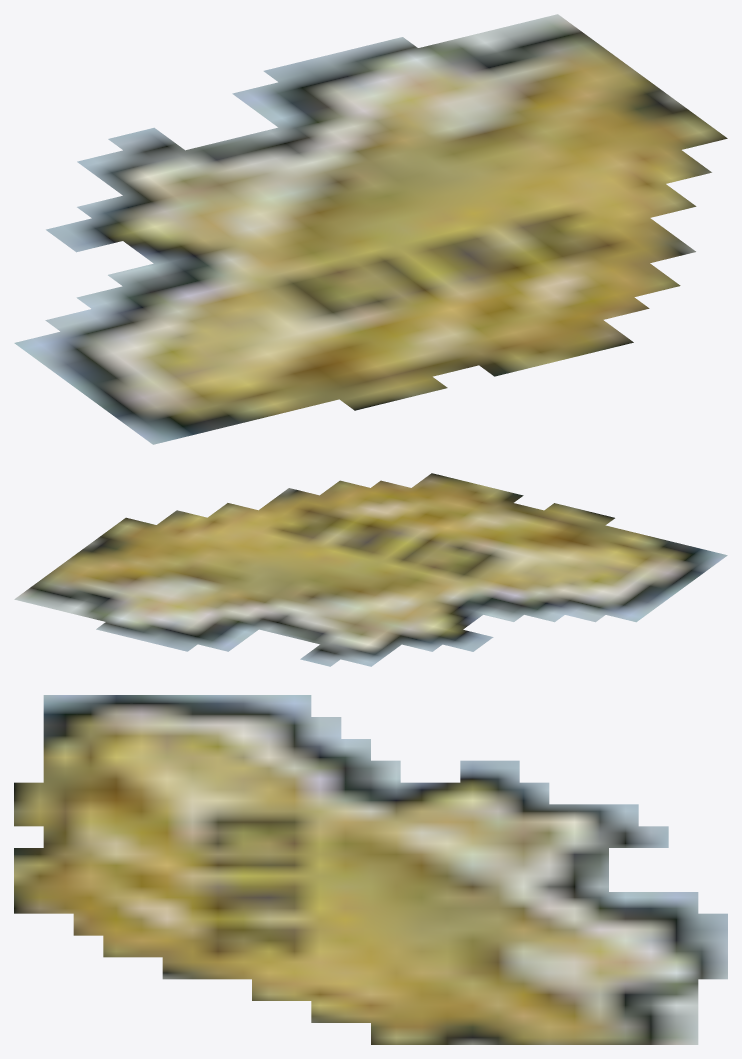
The model's file is eire.gltf.
3 renders of one model, top to bottom at view 1: azimuth 30°, elevation 25°; view 2: azimuth 150°, elevation 25°; view 3: azimuth 270°, elevation 25°, orthographic. The views are drawn at different scales.
Visible parts, largest first — view 1: Plane; view 2: Plane; view 3: Plane.
Boxes of the visible parts, left/top/right/bottom form: Plane: left=14, top=14, right=727, bottom=444; Plane: left=14, top=473, right=727, bottom=666; Plane: left=14, top=695, right=727, bottom=1044.
Bounding box in the file's own units: 0.158 × 0 × 0.1363.
Materials: 1 (1 with a texture image).
